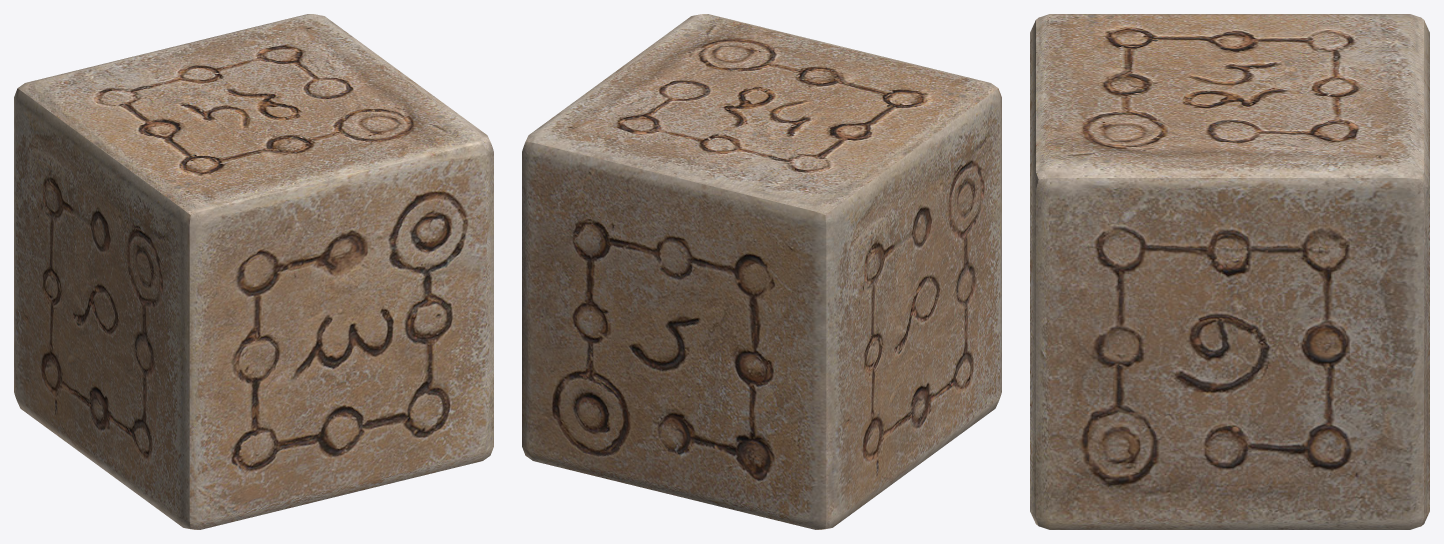
Rendered from dotbox2.obj.
The picture shows the model from 3 angles, left to right: view 1: azimuth 30°, elevation 25°; view 2: azimuth 150°, elevation 25°; view 3: azimuth 270°, elevation 25°; orthographic projection. The views are drawn at different scales.
Parts seen in each view (by area): view 1: pCube1; view 2: pCube1; view 3: pCube1.
Part boxes in pixels (bbox=[...]): pCube1: bbox=[14, 14, 493, 529]; pCube1: bbox=[522, 14, 1001, 529]; pCube1: bbox=[1030, 14, 1429, 529].
Size of the model in its own units: 5 by 5 by 5.
